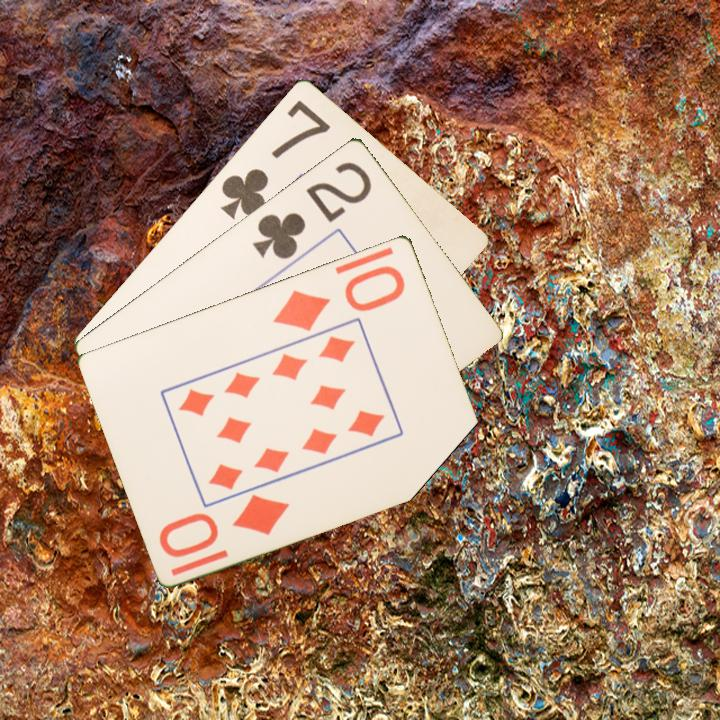10d: (269, 261, 409, 334), (155, 490, 293, 561)
2c: (248, 157, 375, 262)
7c: (217, 95, 333, 222)
